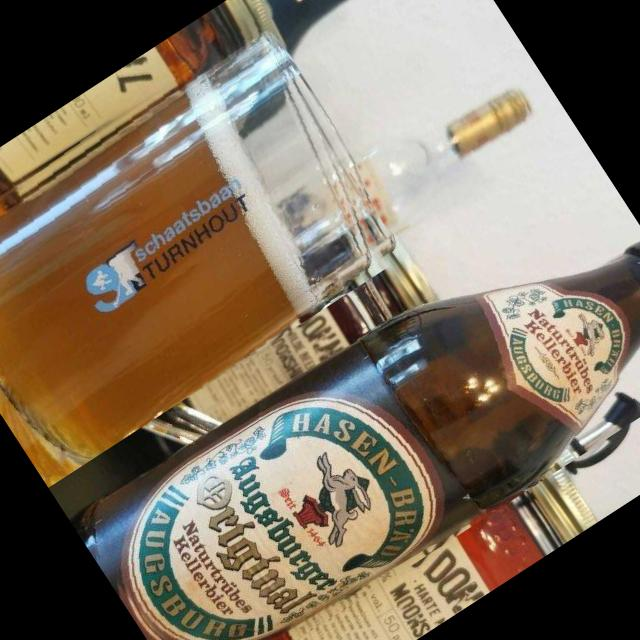Glass: (69, 173, 640, 640), (0, 11, 413, 487), (348, 66, 554, 243), (252, 0, 442, 62)
